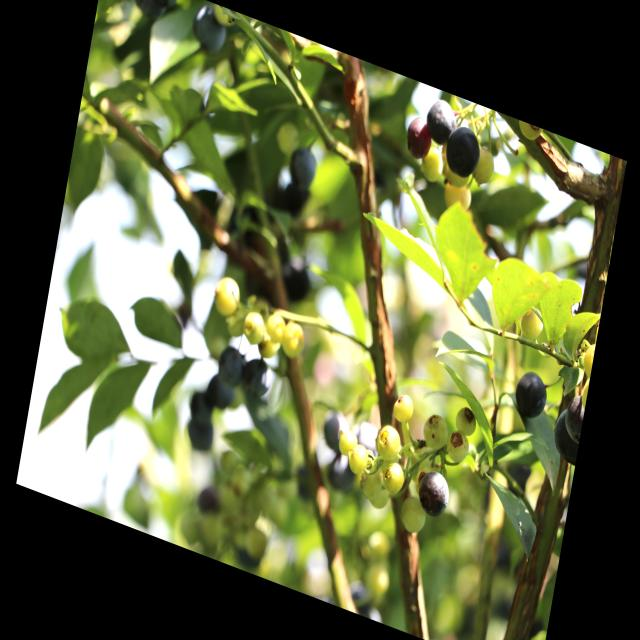blueberry: (442, 122, 484, 184), (412, 467, 453, 525), (511, 366, 551, 424), (546, 408, 583, 470), (424, 91, 458, 149), (283, 139, 318, 190), (241, 350, 274, 404), (215, 341, 248, 392), (403, 111, 433, 162), (562, 390, 586, 445), (323, 408, 350, 450)
blueberry-unripe: (211, 273, 242, 322), (420, 406, 451, 453), (515, 300, 546, 346), (373, 418, 404, 464), (398, 494, 429, 536), (280, 319, 307, 362), (444, 426, 471, 466), (240, 308, 267, 346), (381, 458, 406, 497), (391, 389, 416, 426), (453, 403, 479, 438), (346, 440, 370, 477), (336, 424, 359, 459), (257, 332, 282, 363), (265, 309, 287, 341)
